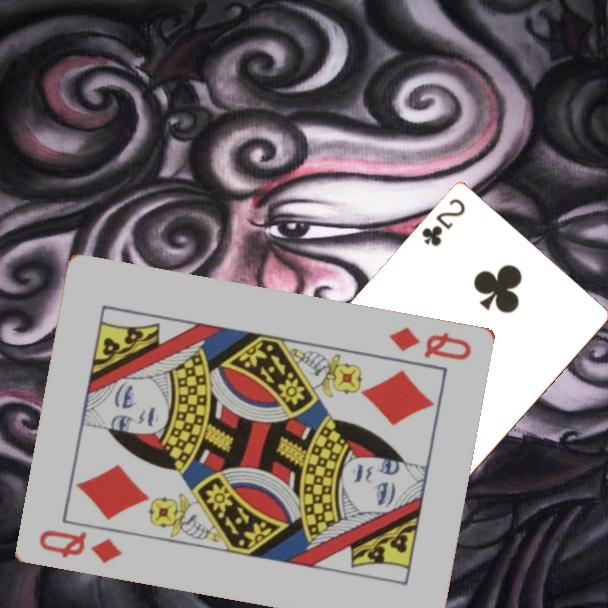c02: (418, 196, 468, 250)
d12: (36, 525, 126, 566), (386, 323, 475, 363)
